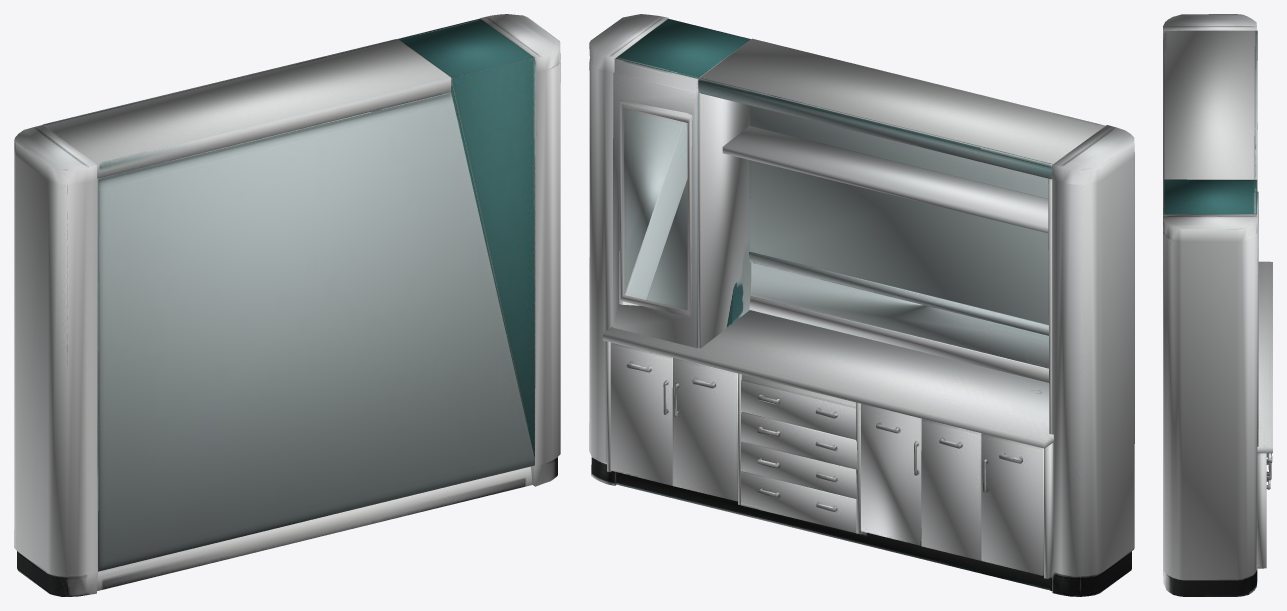
File: mall-pharmacy-dispensary-counter.glb
3 renders of one model, left to right at view 1: azimuth 30°, elevation 25°; view 2: azimuth 150°, elevation 25°; view 3: azimuth 270°, elevation 25°, orthographic. The views are drawn at different scales.
Parts seen in each view (by area): view 1: pharmacy-dispensary-counter; view 2: pharmacy-dispensary-counter; view 3: pharmacy-dispensary-counter.
Boxes of the visible parts, x1,y1,x2,y2 form: pharmacy-dispensary-counter: (14,14,560,596); pharmacy-dispensary-counter: (589,14,1134,596); pharmacy-dispensary-counter: (1163,14,1272,596).
Size of the model in its own units: 3.2 by 2.56 by 0.6915.
Materials: 1 (1 with a texture image).
